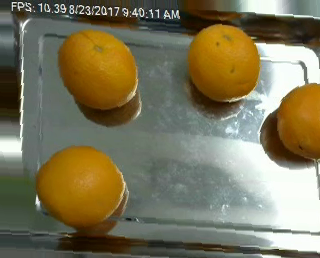Orange: (35, 143, 127, 227), (57, 28, 139, 109), (183, 22, 260, 102), (277, 80, 320, 159)
